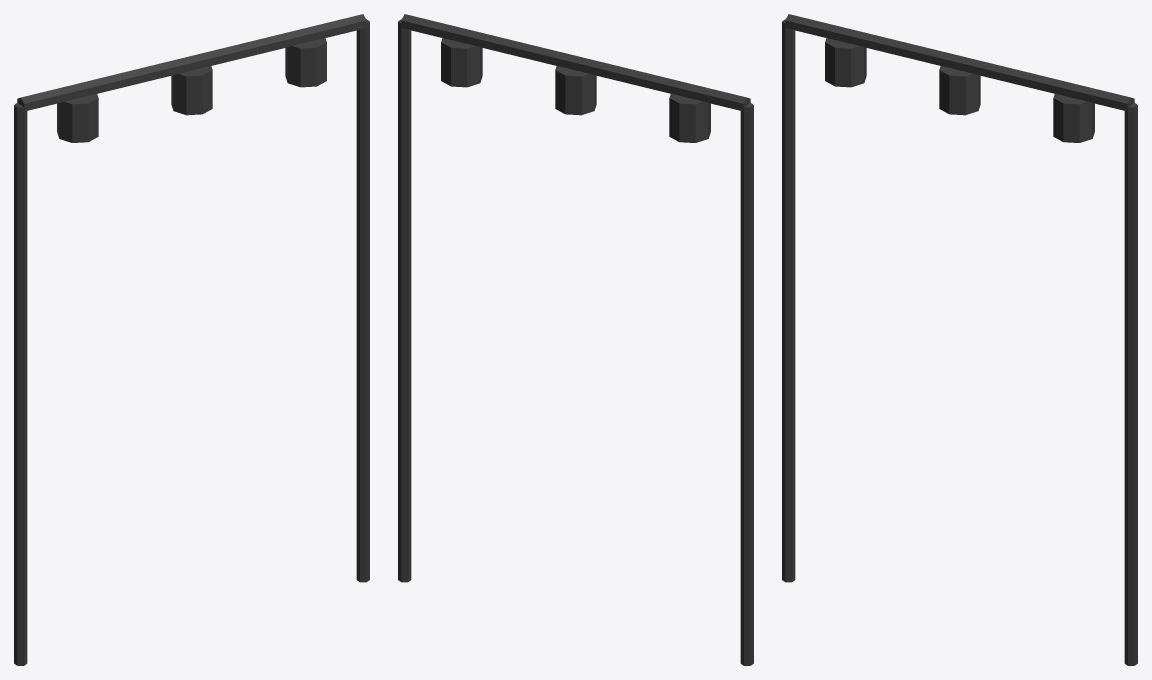
The picture shows the model from 3 angles, left to right: view 1: azimuth 30°, elevation 25°; view 2: azimuth 150°, elevation 25°; view 3: azimuth 330°, elevation 25°; orthographic projection.
Visible parts, largest first — view 1: Pole, Pole.001, Track, Spot, Spot.001, Spot.002; view 2: Pole, Pole.001, Track, Spot, Spot.001, Spot.002; view 3: Pole.001, Pole, Track, Spot.002, Spot, Spot.001.
Part boxes in pixels (x1=…): Pole: x1=14, y1=103, x2=27, y2=665; Pole.001: x1=356, y1=19, x2=369, y2=582; Track: x1=17, y1=14, x2=366, y2=111; Spot: x1=57, y1=93, x2=98, y2=142; Spot.001: x1=171, y1=66, x2=212, y2=115; Spot.002: x1=285, y1=38, x2=326, y2=87; Pole: x1=740, y1=103, x2=753, y2=665; Pole.001: x1=398, y1=19, x2=411, y2=582; Track: x1=401, y1=14, x2=750, y2=111; Spot: x1=669, y1=93, x2=710, y2=142; Spot.001: x1=555, y1=66, x2=596, y2=115; Spot.002: x1=441, y1=38, x2=482, y2=87; Pole.001: x1=1124, y1=103, x2=1137, y2=665; Pole: x1=782, y1=19, x2=795, y2=582; Track: x1=785, y1=14, x2=1134, y2=111; Spot.002: x1=1053, y1=93, x2=1094, y2=142; Spot: x1=825, y1=38, x2=866, y2=87; Spot.001: x1=939, y1=66, x2=980, y2=115.
Bounding box in the file's own units: 123 × 190 × 13.
